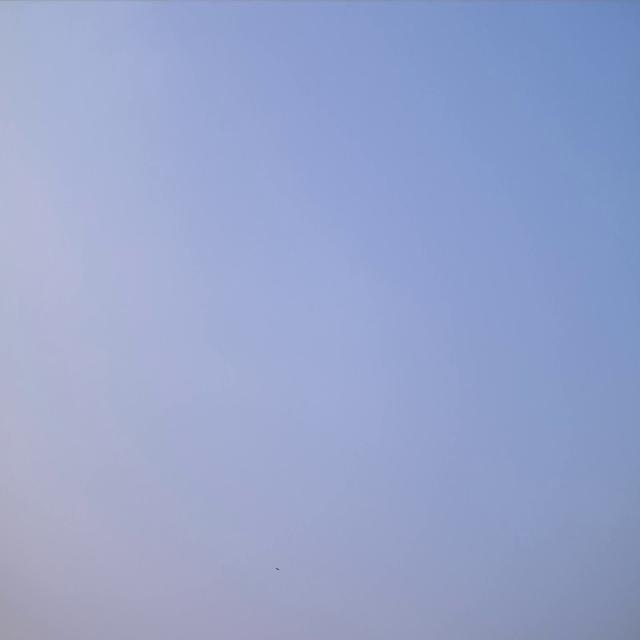UAV: (274, 567, 280, 571)
